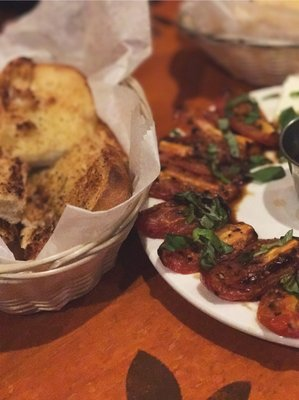sandwich: (203, 380, 252, 400)
soup: (0, 56, 132, 261)
sushi: (0, 22, 160, 316), (0, 172, 156, 316)
